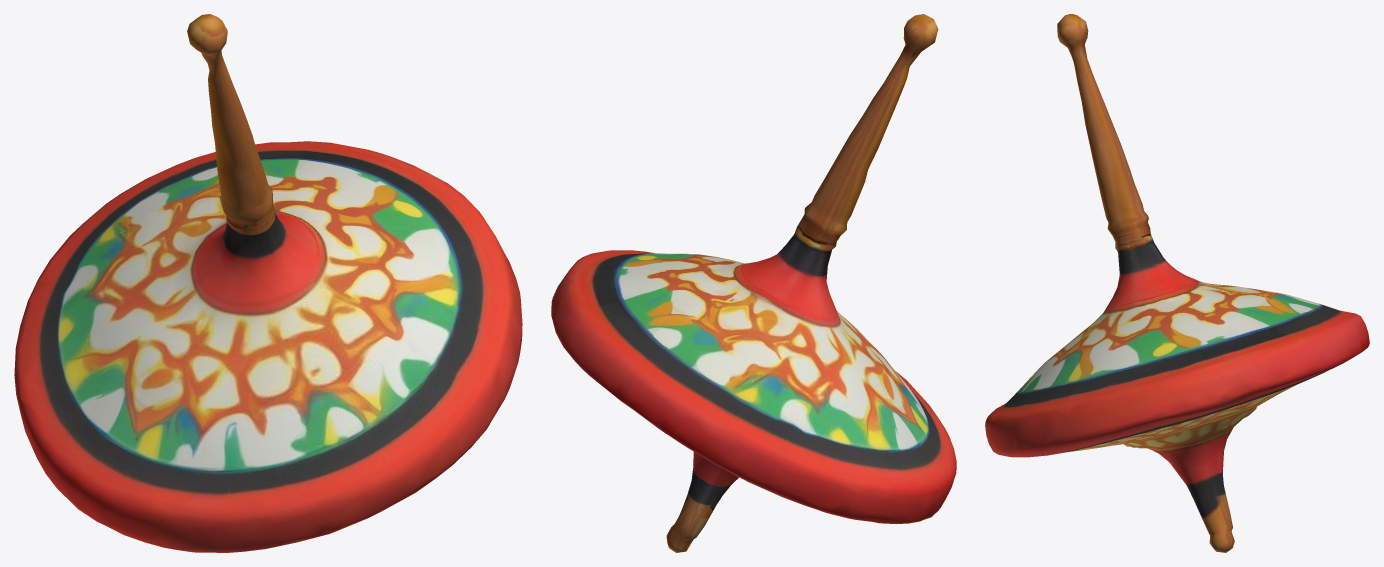
Rendered from spinningTop.glb.
3 renders of one model, left to right at view 1: azimuth 30°, elevation 25°; view 2: azimuth 150°, elevation 25°; view 3: azimuth 270°, elevation 25°, orthographic. The views are drawn at different scales.
Visible parts, largest first — view 1: rot; view 2: rot; view 3: rot.
Boxes of the visible parts, bbox=[...] form: rot: bbox=[14, 14, 522, 552]; rot: bbox=[551, 14, 956, 552]; rot: bbox=[985, 14, 1369, 552].
Bounding box in the file's own units: 0.7546 × 1 × 0.7504.
Materials: 1 (1 with a texture image).
